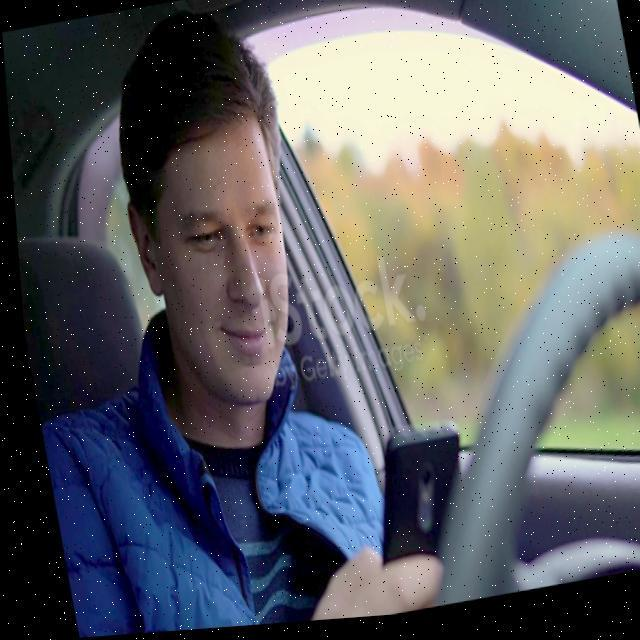PhoneCall: (348, 420, 472, 580)
